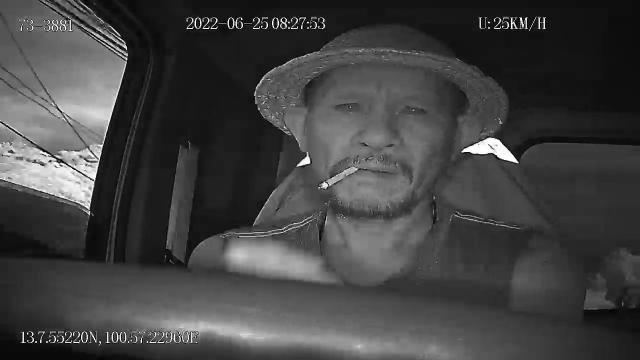SafeDriving: (392, 93, 436, 124), (327, 92, 367, 118)
Smoking: (317, 165, 358, 191)
